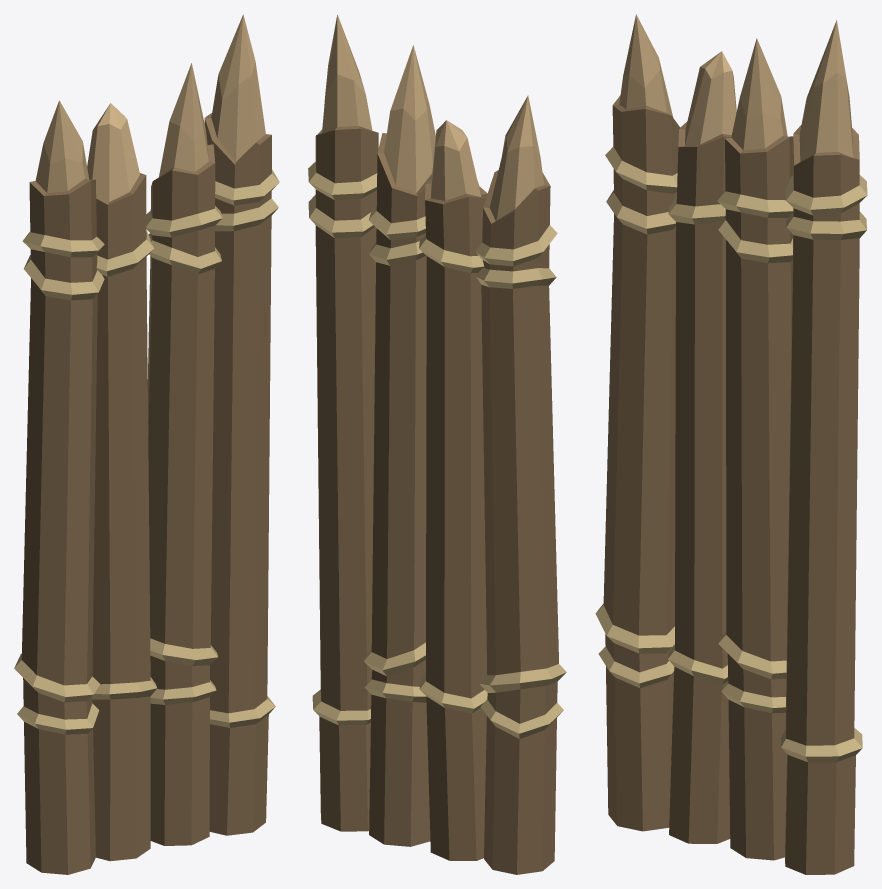
The model's file is rpgpp_ag_stockade_01b_2x6.fbx.
3 renders of one model, left to right at view 1: azimuth 30°, elevation 25°; view 2: azimuth 150°, elevation 25°; view 3: azimuth 330°, elevation 25°, orthographic. The views are drawn at different scales.
Visible parts, largest first — view 1: rpgpp_ag_stockade_01b_2x6; view 2: rpgpp_ag_stockade_01b_2x6; view 3: rpgpp_ag_stockade_01b_2x6.
Boxes of the visible parts, x1,y1,x2,y2 form: rpgpp_ag_stockade_01b_2x6: (14, 14, 279, 874); rpgpp_ag_stockade_01b_2x6: (308, 14, 566, 874); rpgpp_ag_stockade_01b_2x6: (595, 14, 867, 874).
Size of the model in its own units: 2.19 by 6.72 by 0.8009.
